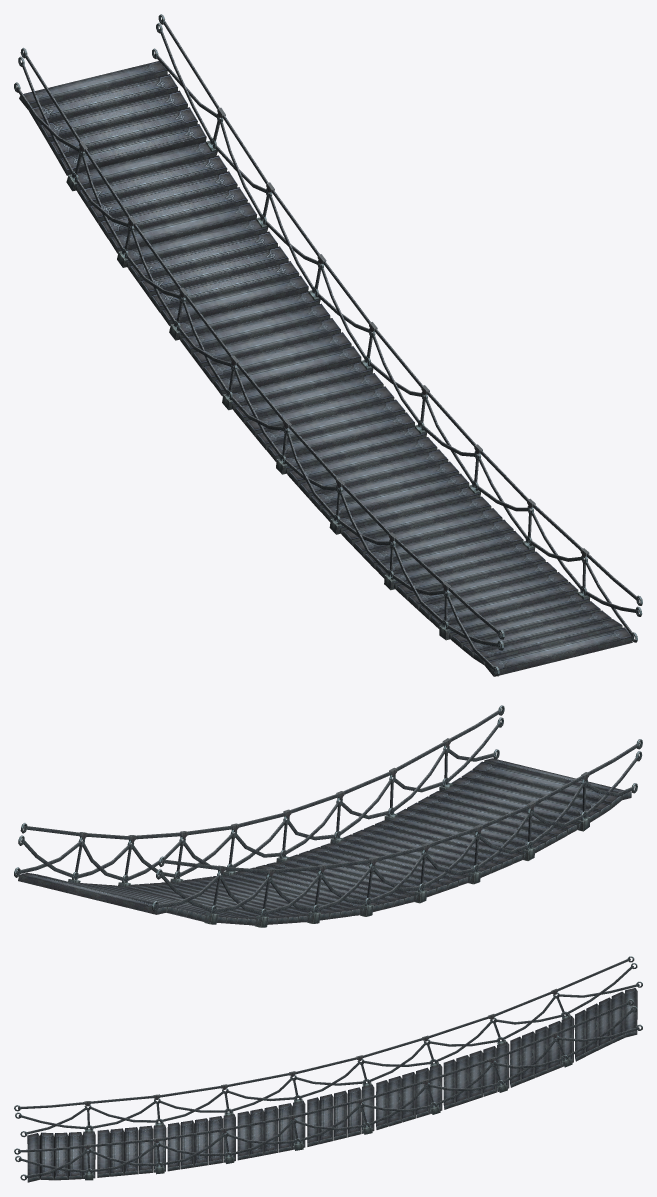
File: steel_bridge_body_up.glb
The picture shows the model from 3 angles, top to bottom: view 1: azimuth 30°, elevation 25°; view 2: azimuth 150°, elevation 25°; view 3: azimuth 270°, elevation 25°; orthographic projection. The views are drawn at different scales.
Parts seen in each view (by area): view 1: steel_bridge_body_up; view 2: steel_bridge_body_up; view 3: steel_bridge_body_up.
Part boxes in pixels (box(x1,y1,x2,y2)): steel_bridge_body_up: box(14, 14, 642, 676); steel_bridge_body_up: box(14, 705, 642, 927); steel_bridge_body_up: box(14, 956, 642, 1182).
Size of the model in its own units: 11.42 by 21.54 by 67.14.
Materials: 1 (1 with a texture image).
